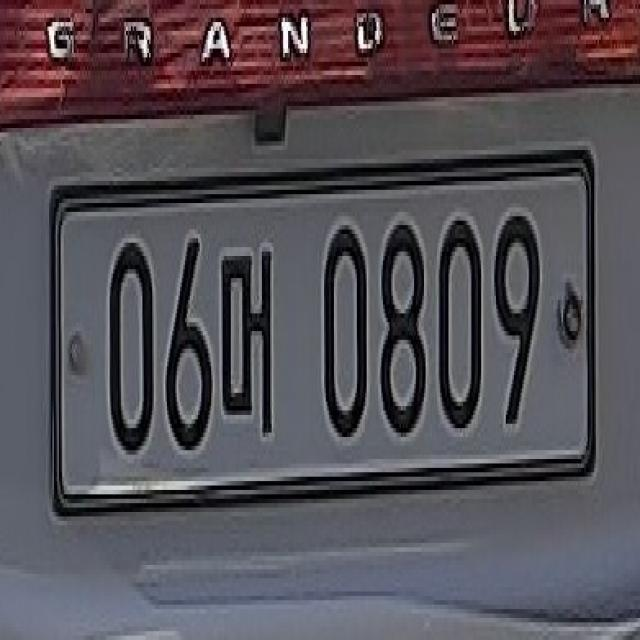0: (432, 199, 486, 448), (107, 222, 157, 476), (321, 208, 371, 454)
6: (162, 218, 216, 471)
8: (374, 208, 432, 454)
9: (489, 195, 546, 446)
license_plate: (40, 119, 608, 529)
meo: (220, 219, 279, 461)
